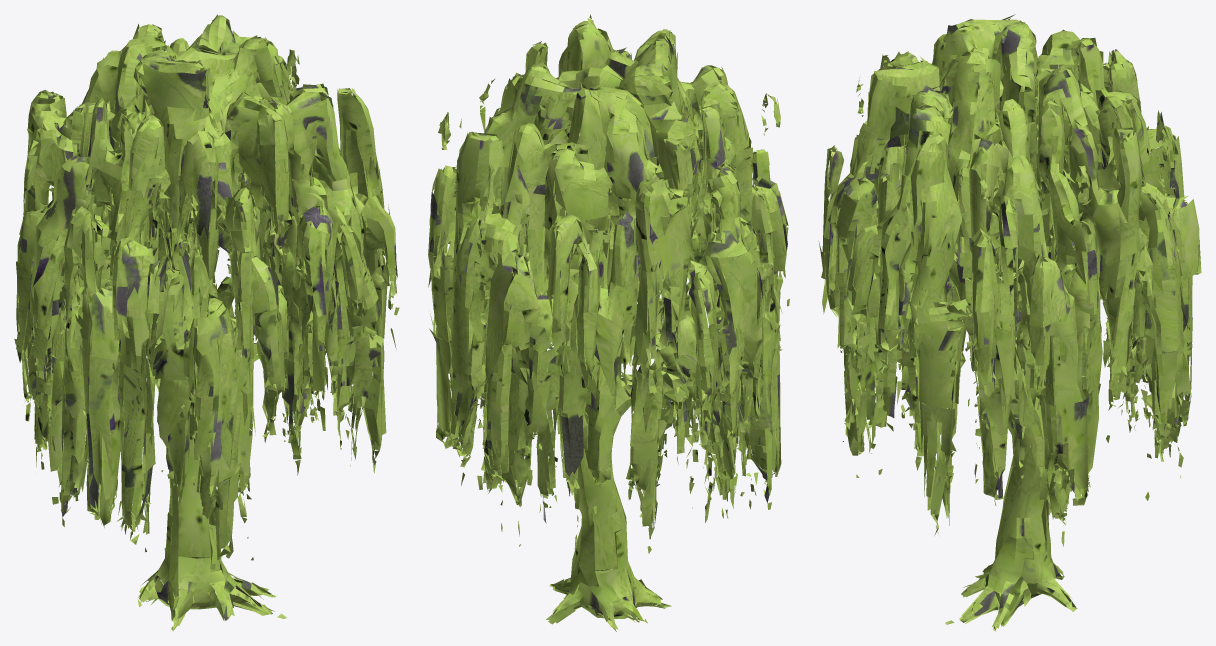
Rendered from veg_tree_willow_01.obj.
The picture shows the model from 3 angles, left to right: view 1: azimuth 30°, elevation 25°; view 2: azimuth 150°, elevation 25°; view 3: azimuth 270°, elevation 25°; orthographic projection.
Parts seen in each view (by area): view 1: veg_tree_willow_01; view 2: veg_tree_willow_01; view 3: veg_tree_willow_01.
Part boxes in pixels (x1,y1,x2,y2): veg_tree_willow_01: [14, 14, 399, 631]; veg_tree_willow_01: [428, 14, 789, 631]; veg_tree_willow_01: [818, 14, 1201, 631].
Size of the model in its own units: 8.27 by 14.04 by 8.5.
Materials: 1 (1 with a texture image).
